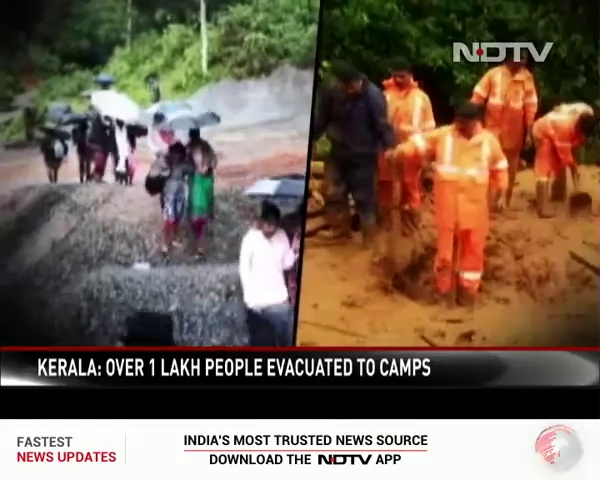person: (427, 103, 496, 299), (322, 66, 383, 236), (236, 202, 294, 347), (480, 61, 541, 196), (538, 94, 600, 222), (384, 65, 425, 225), (148, 146, 189, 253), (186, 129, 218, 259), (35, 125, 66, 185), (112, 118, 133, 187), (93, 121, 111, 189), (72, 122, 87, 181), (145, 78, 158, 101)
